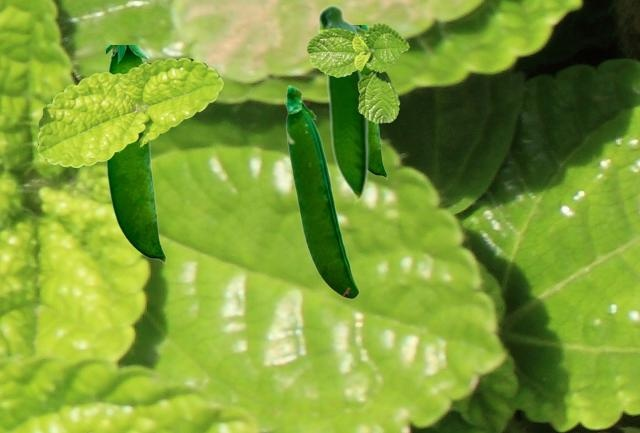pea: (284, 84, 358, 298), (106, 45, 165, 263), (316, 3, 368, 204), (359, 25, 386, 178)
